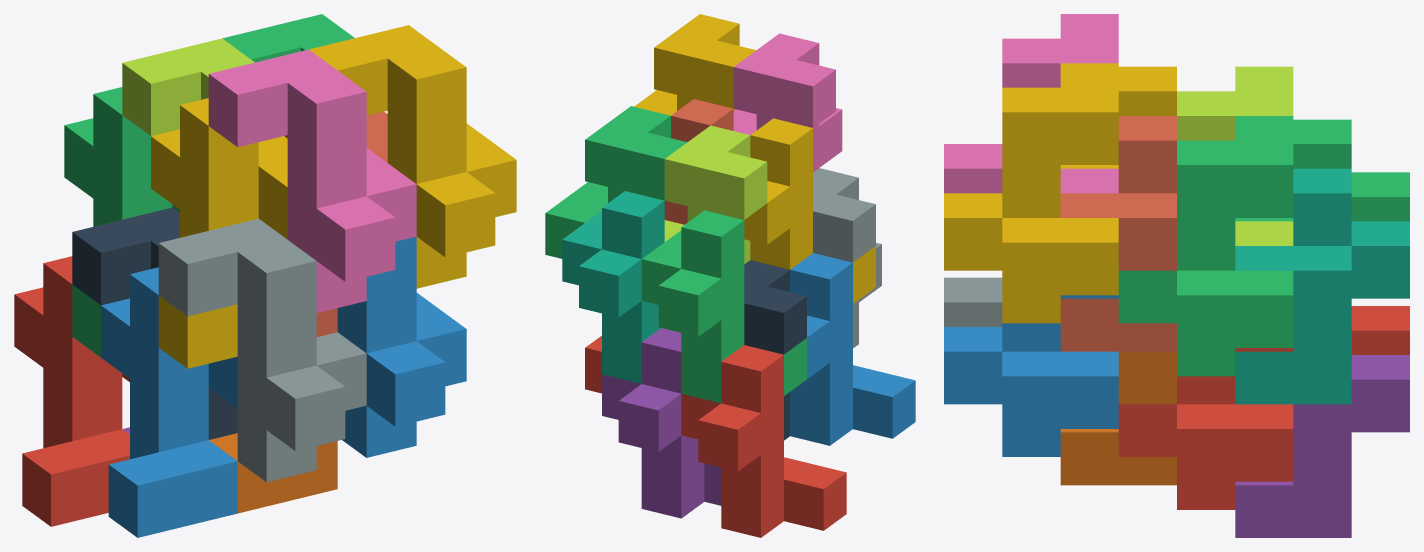
Rendered from tiling.obj.
3 views of the same model, side by side, from view 1: azimuth 30°, elevation 25°; view 2: azimuth 150°, elevation 25°; view 3: azimuth 270°, elevation 25° (orthographic). The views are drawn at different scales.
Parts seen in each view (by area): view 1: copy_2_domain_2, copy_2_domain_4, copy_2_domain_8, copy_1_domain_2, copy_1_domain_1, copy_1_domain_4, copy_2_domain_6, copy_1_domain_3, copy_2_domain_1, copy_2_domain_3, copy_1_domain_6, copy_2_domain_7 (+1 smaller); view 2: copy_1_domain_1, copy_1_domain_3, copy_1_domain_2, copy_1_domain_7, copy_1_domain_5, copy_2_domain_4, copy_1_domain_4, copy_2_domain_7, copy_2_domain_3, copy_2_domain_8, copy_2_domain_2, copy_2_domain_1 (+2 smaller); view 3: copy_2_domain_8, copy_2_domain_7, copy_1_domain_7, copy_2_domain_6, copy_2_domain_5, copy_1_domain_5, copy_1_domain_8, copy_2_domain_4, copy_1_domain_6, copy_2_domain_3, copy_1_domain_3, copy_1_domain_4 (+2 smaller).
Part boxes in pixels (box(x1,y1,x2,y2)): copy_2_domain_2: box(158, 218, 366, 482); copy_2_domain_4: box(208, 49, 416, 312); copy_2_domain_8: box(309, 25, 516, 288); copy_1_domain_2: box(101, 267, 237, 537); copy_1_domain_1: box(14, 256, 129, 526); copy_1_domain_4: box(151, 98, 287, 368); copy_2_domain_6: box(337, 236, 466, 457); copy_1_domain_3: box(64, 87, 179, 357); copy_2_domain_1: box(72, 207, 237, 439); copy_2_domain_3: box(122, 38, 254, 135); copy_1_domain_6: box(209, 433, 337, 513); copy_2_domain_7: box(222, 14, 354, 62); copy_1_domain_1: box(681, 345, 846, 537); copy_1_domain_3: box(641, 210, 806, 403); copy_1_domain_2: box(790, 253, 915, 445); copy_1_domain_7: box(562, 191, 664, 383); copy_1_domain_5: box(602, 328, 721, 518); copy_2_domain_4: box(733, 33, 842, 172); copy_1_domain_4: box(744, 118, 875, 303); copy_2_domain_7: box(545, 106, 687, 258); copy_2_domain_3: box(664, 125, 767, 263); copy_2_domain_8: box(634, 14, 755, 115); copy_2_domain_2: box(813, 168, 881, 348); copy_2_domain_1: box(744, 260, 806, 440); copy_2_domain_8: box(944, 63, 1118, 323); copy_2_domain_7: box(1118, 116, 1293, 376); copy_1_domain_7: box(1235, 168, 1409, 404); copy_2_domain_6: box(944, 295, 1118, 456); copy_2_domain_5: box(1118, 348, 1293, 509); copy_1_domain_5: box(1235, 355, 1409, 537); copy_1_domain_8: box(1060, 116, 1176, 351); copy_2_domain_4: box(944, 14, 1118, 193); copy_1_domain_6: box(1060, 351, 1176, 485); copy_2_domain_3: box(1177, 66, 1293, 245); copy_1_domain_3: box(1235, 119, 1409, 221); copy_1_domain_4: box(1060, 66, 1176, 168).
Size of the model in its own units: 7 by 9 by 8.
